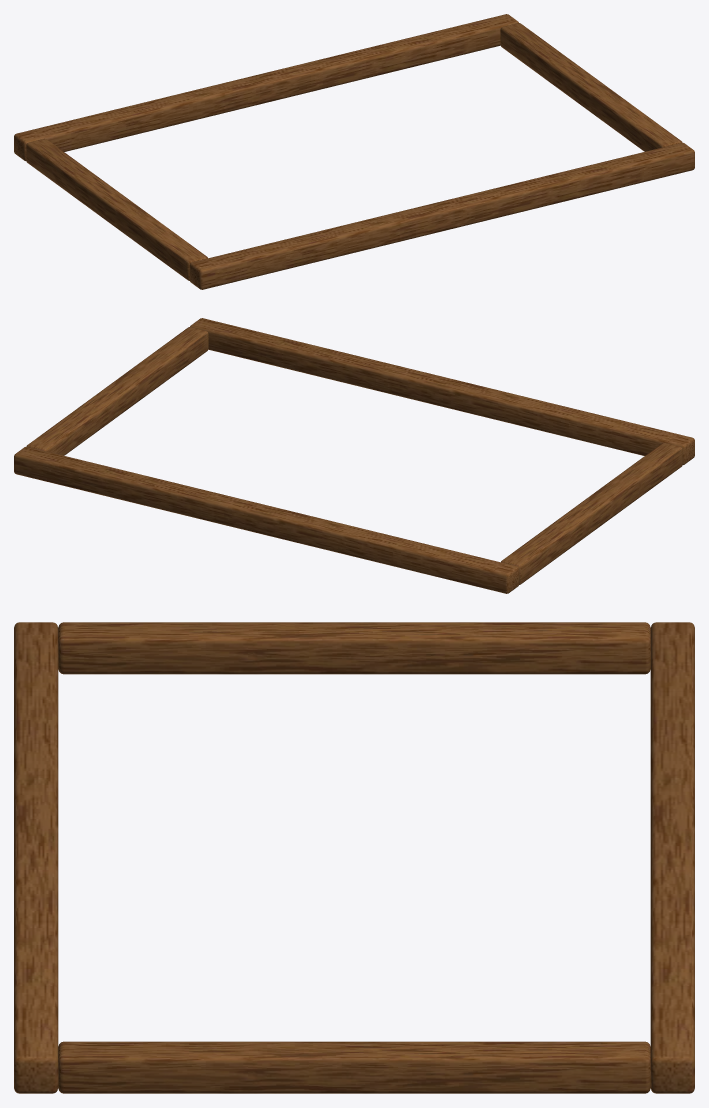
Rendered from rim-wood.glb.
3 views of the same model, one above another, from view 1: azimuth 30°, elevation 25°; view 2: azimuth 150°, elevation 25°; view 3: azimuth 270°, elevation 25° (orthographic). The views are drawn at different scales.
Visible parts, largest first — view 1: rim-wood-long.001, rim-wood-long, rim-wood-short.001, rim-wood-short; view 2: rim-wood-long, rim-wood-long.001, rim-wood-short.001, rim-wood-short; view 3: rim-wood-short, rim-wood-short.001, rim-wood-long, rim-wood-long.001.
Part boxes in pixels (x1=…): rim-wood-long.001: x1=189, y1=142, x2=694, y2=289; rim-wood-long: x1=14, y1=14, x2=518, y2=160; rim-wood-short.001: x1=26, y1=138, x2=207, y2=280; rim-wood-short: x1=500, y1=23, x2=682, y2=151; rim-wood-long: x1=14, y1=446, x2=519, y2=593; rim-wood-long.001: x1=190, y1=318, x2=694, y2=464; rim-wood-short.001: x1=501, y1=442, x2=682, y2=584; rim-wood-short: x1=26, y1=327, x2=208, y2=455; rim-wood-short: x1=58, y1=1041, x2=650, y2=1093; rim-wood-short.001: x1=58, y1=622, x2=650, y2=674; rim-wood-long: x1=650, y1=622, x2=694, y2=1093; rim-wood-long.001: x1=14, y1=622, x2=58, y2=1093.
Size of the model in its own units: 32.8 by 1.3 by 21.55.
2 materials, 2 textured.
